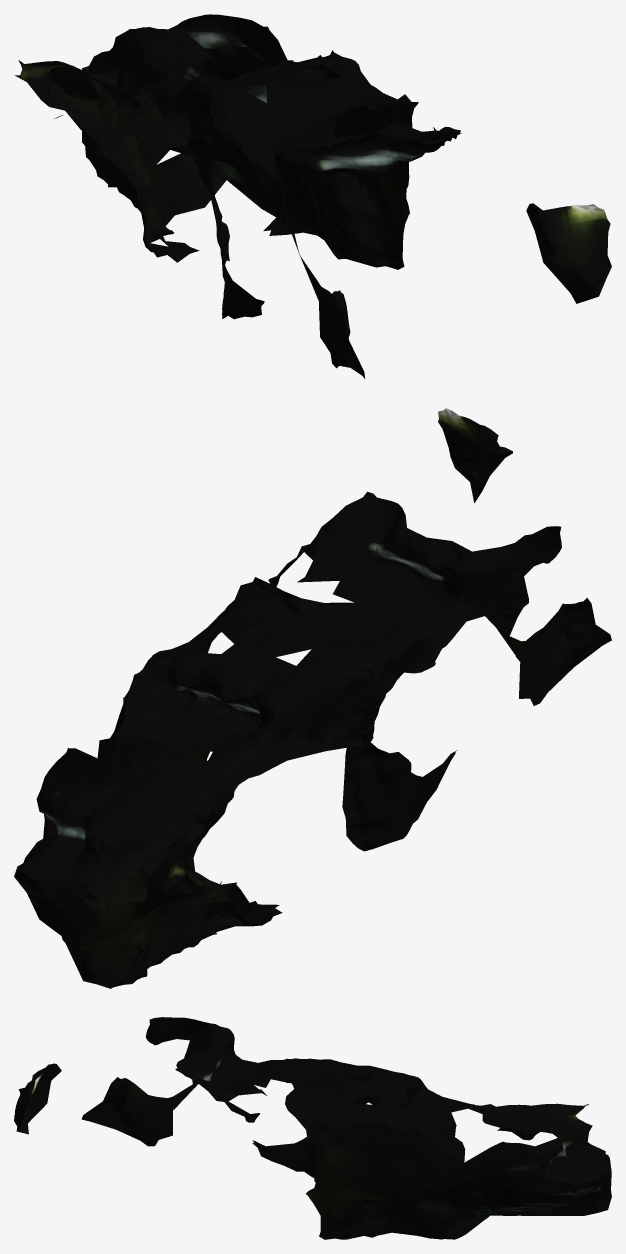
Rendered from texturedMesh.glb.
3 renders of one model, top to bottom at view 1: azimuth 30°, elevation 25°; view 2: azimuth 150°, elevation 25°; view 3: azimuth 270°, elevation 25°, orthographic. The views are drawn at different scales.
Visible parts, largest first — view 1: texturedMesh; view 2: texturedMesh; view 3: texturedMesh.
Boxes of the visible parts, x1,y1,x2,y2 form: texturedMesh: [15, 14, 611, 378]; texturedMesh: [14, 408, 611, 988]; texturedMesh: [14, 1017, 611, 1239].
Size of the model in its own units: 0.8554 by 0.9052 by 2.92.
Materials: 1 (1 with a texture image).
